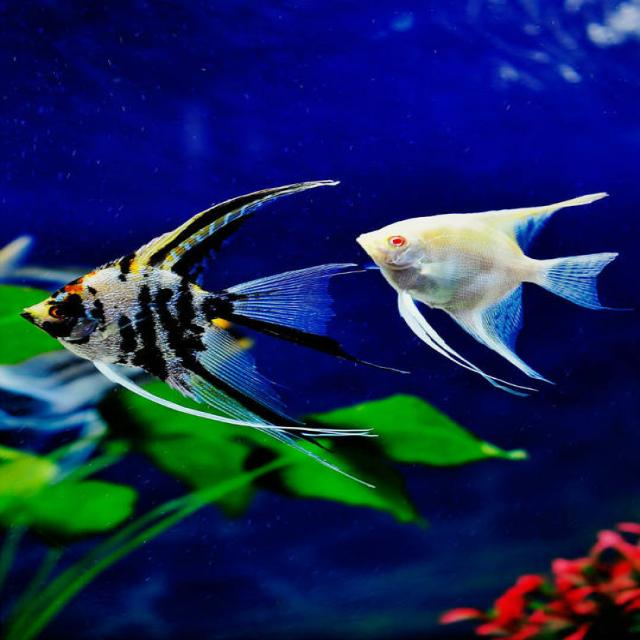AngelFish: (25, 178, 355, 474), (359, 177, 613, 410)
